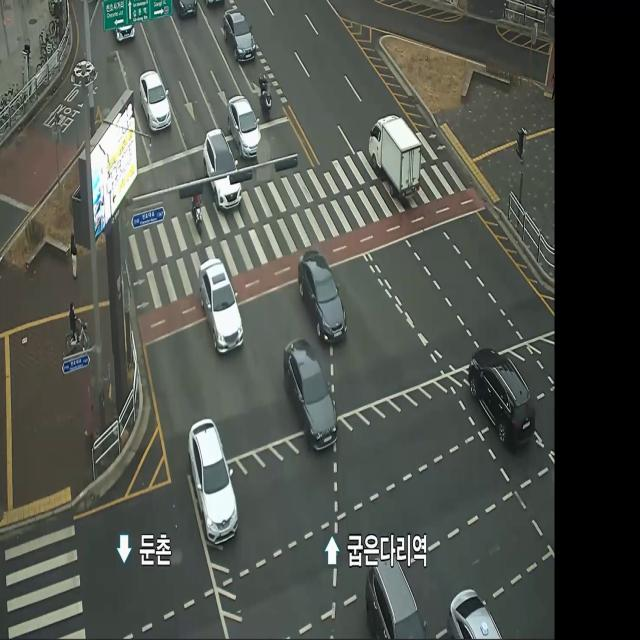bus: (261, 70, 274, 129), (192, 182, 202, 230)
motorcycle: (282, 332, 336, 460), (469, 348, 533, 452), (189, 422, 239, 544), (364, 556, 426, 640), (299, 249, 349, 342), (199, 258, 242, 360), (204, 130, 241, 202), (451, 587, 498, 640), (141, 68, 171, 132), (221, 11, 257, 62), (227, 95, 260, 147)
truck: (368, 112, 421, 201)
